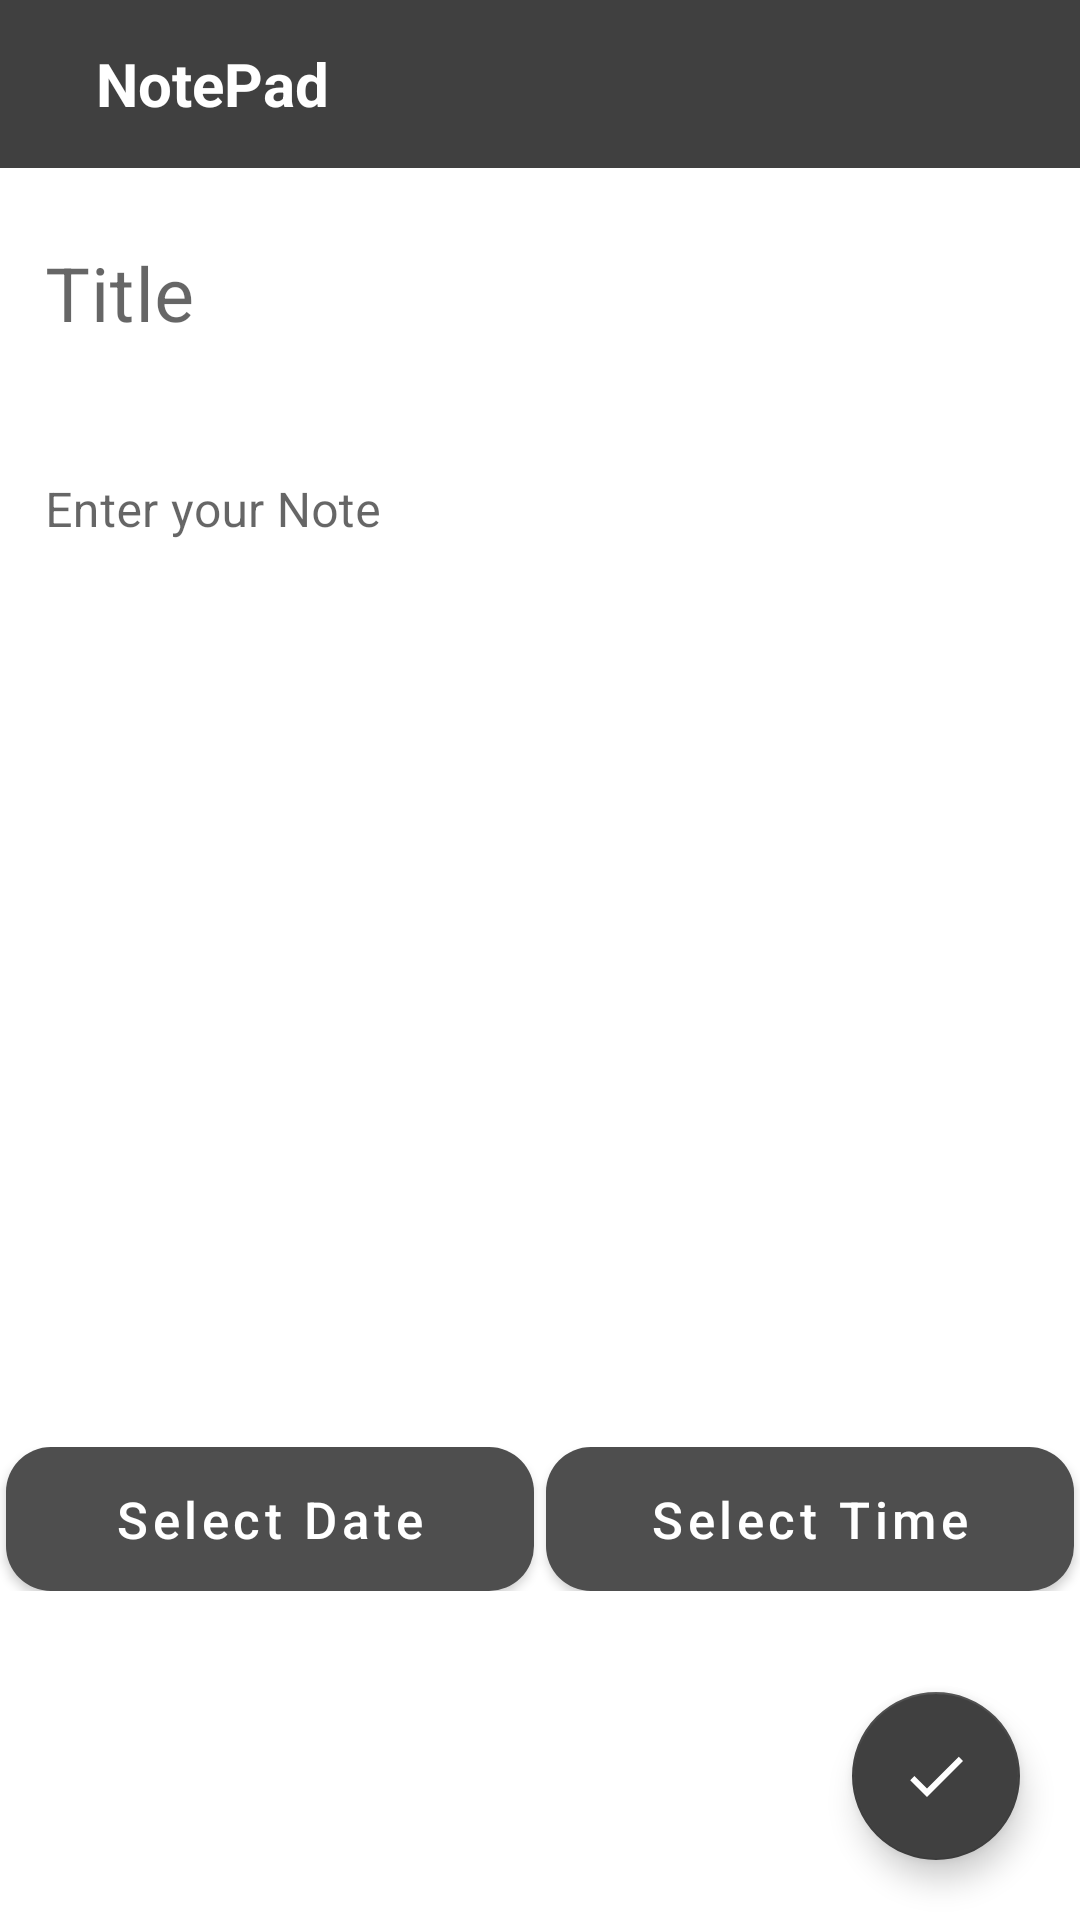

Icon bounding boxes for this 1080x1920 phone screenshot, format (x1, y1, x2, y2):
done: (852, 1692, 1020, 1860)
